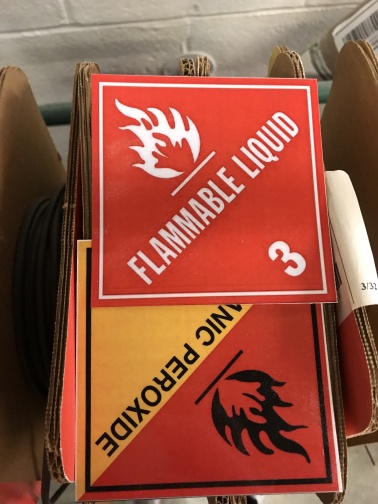FlammableLiquid: (89, 73, 338, 307)
OrganicPeroxide: (75, 240, 341, 498)
